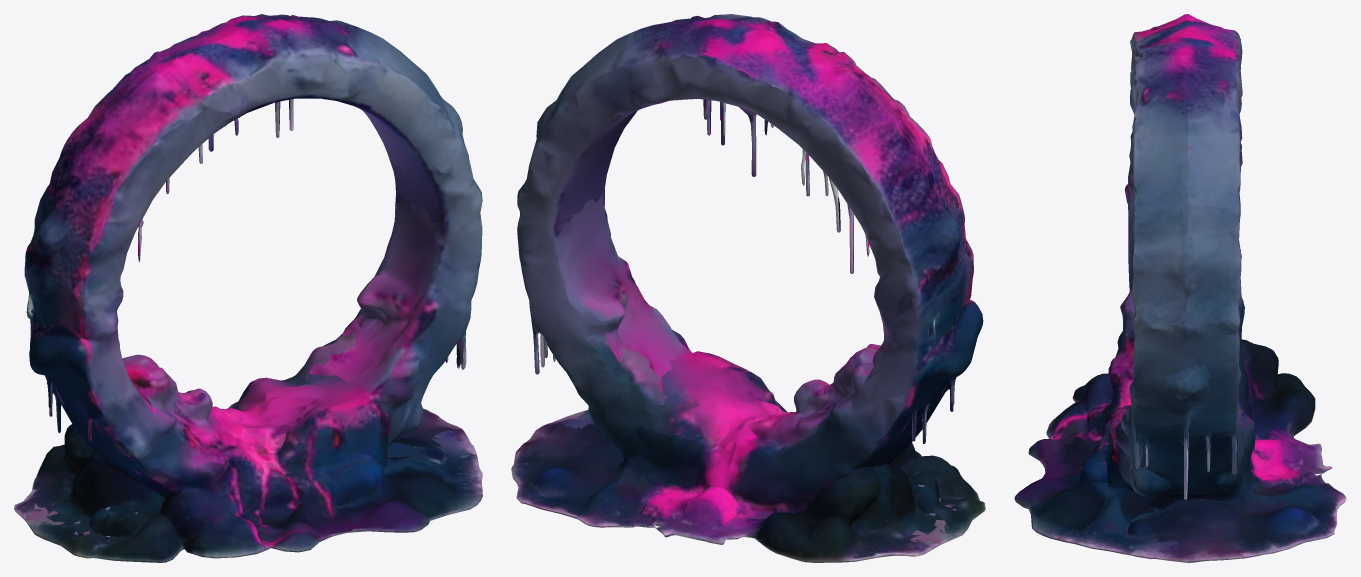
The model's file is broken-ring-generated-2026-05-17T21-08-20-319Z.low.glb.
The picture shows the model from 3 angles, left to right: view 1: azimuth 30°, elevation 25°; view 2: azimuth 150°, elevation 25°; view 3: azimuth 270°, elevation 25°; orthographic projection. The views are drawn at different scales.
Parts seen in each view (by area): view 1: temp_mesh.ply; view 2: temp_mesh.ply; view 3: temp_mesh.ply.
Part boxes in pixels (box(x1,y1,x2,y2)): temp_mesh.ply: box(14, 14, 482, 562); temp_mesh.ply: box(511, 14, 985, 562); temp_mesh.ply: box(1014, 14, 1346, 562).
Bounding box in the file's own units: 1.97 × 1.94 × 1.36.
1 material, 1 textured.
